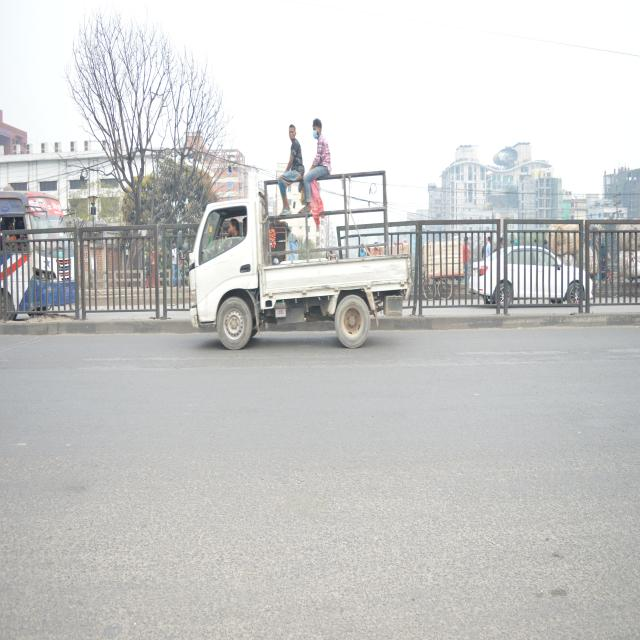bus: (0, 181, 81, 331)
car: (469, 240, 594, 315)
pickup-van: (180, 188, 418, 356)
